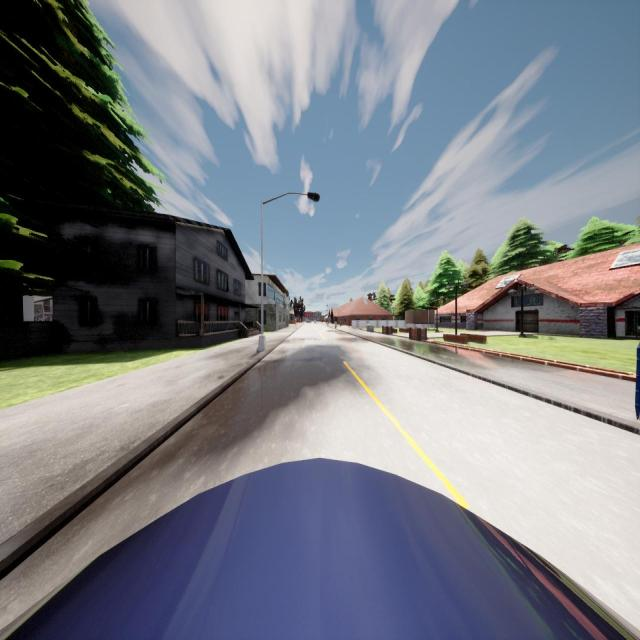Vehicle: (0, 459, 640, 640), (306, 319, 311, 323), (314, 320, 316, 324)
